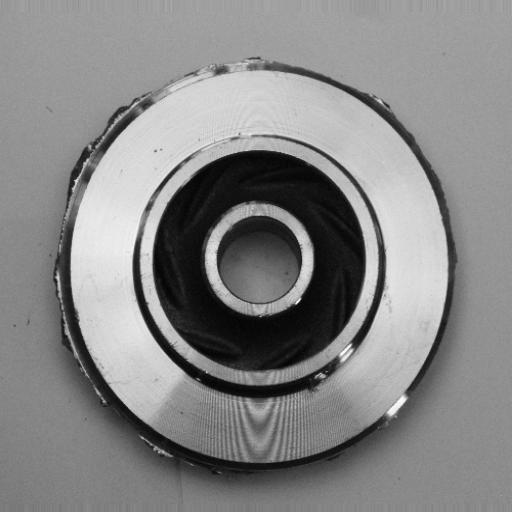casting_with_burr: (49, 53, 459, 483)
scratch: (183, 125, 273, 163), (325, 337, 368, 386)
